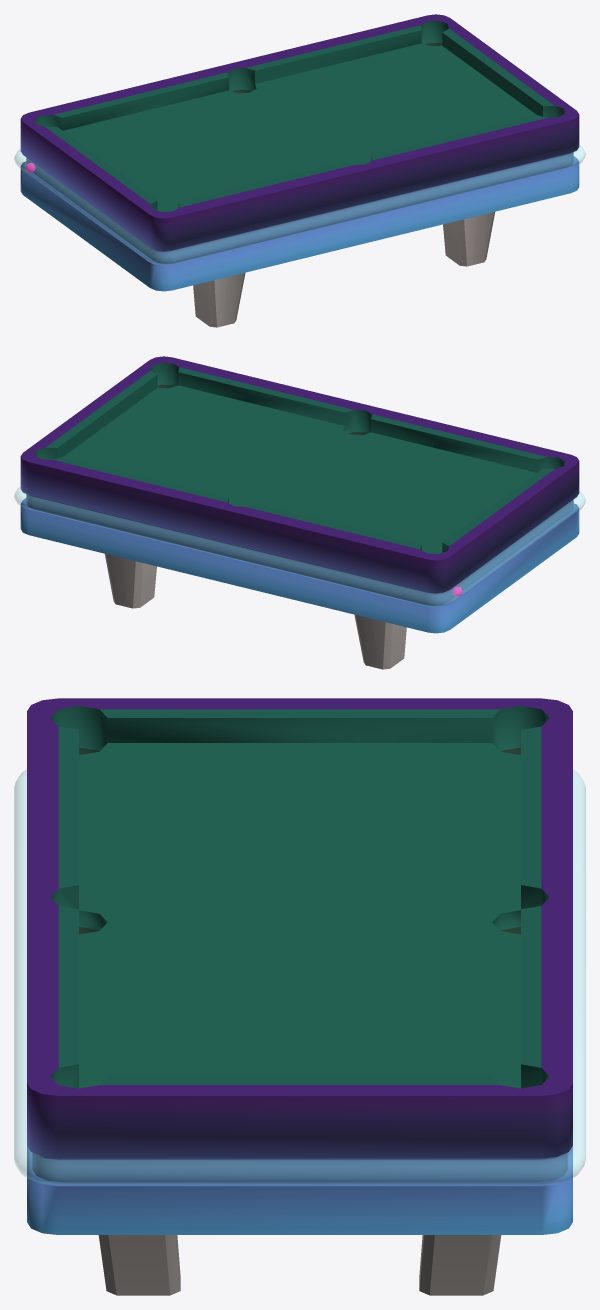
Rendered from 15fe005a-1dac-4f74-9f00-5c450a4e8128.glb.
3 views of the same model, one above another, from view 1: azimuth 30°, elevation 25°; view 2: azimuth 150°, elevation 25°; view 3: azimuth 270°, elevation 25° (orthographic). The views are drawn at different scales.
Visible parts, largest first — view 1: CyberpoolTableTop, Tube; view 2: CyberpoolTableTop, Tube; view 3: CyberpoolTableTop, Tube.
Part boxes in pixels (x1,y1,x2,y2): CyberpoolTableTop: [20, 14, 579, 327]; Tube: [14, 145, 585, 264]; CyberpoolTableTop: [20, 356, 579, 669]; Tube: [14, 487, 585, 606]; CyberpoolTableTop: [27, 698, 572, 1295]; Tube: [14, 770, 585, 1184].
Size of what is drawn, in the model's own units: 3.14 by 0.9683 by 1.86.
Materials: 3 (3 with a texture image).
